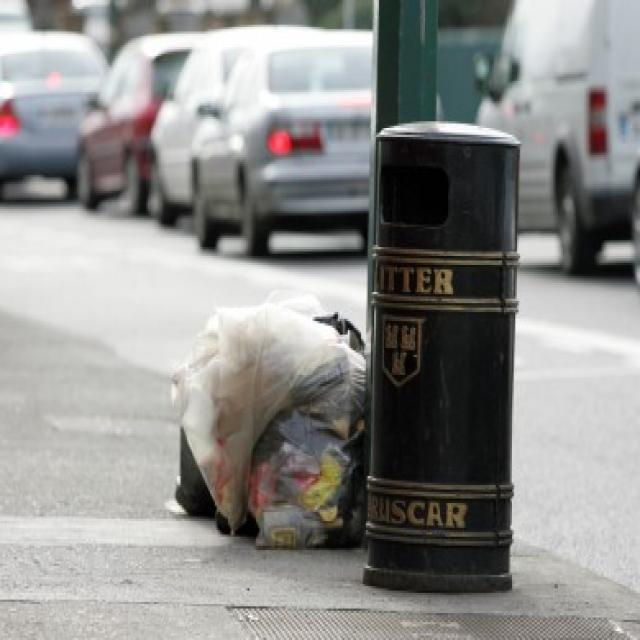garbage: (159, 278, 366, 586)
